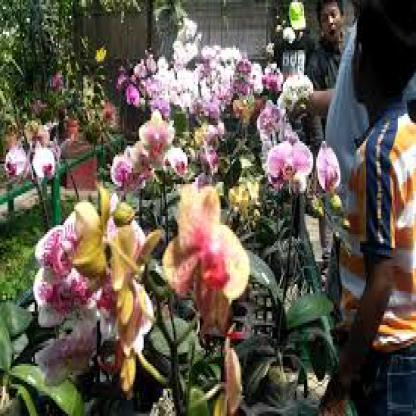ANGGREK: (46, 22, 343, 385)
